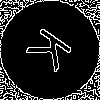K: (25, 25, 82, 79)
